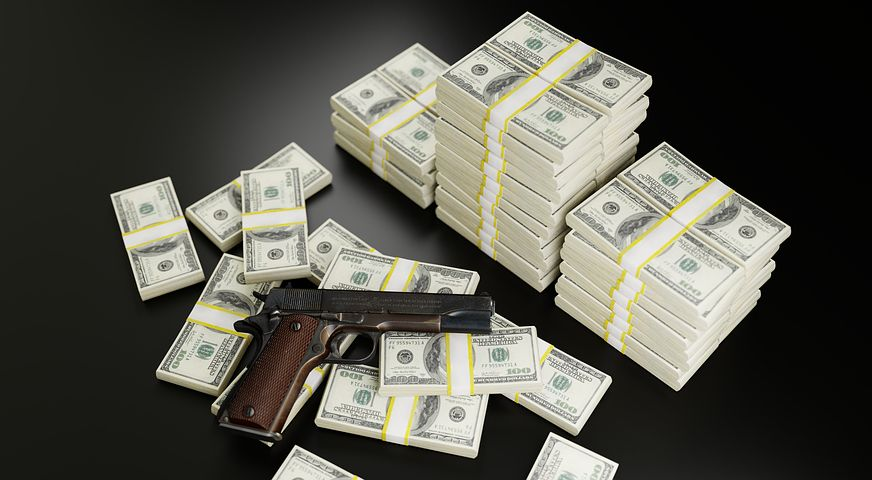gun: (219, 284, 510, 441)
